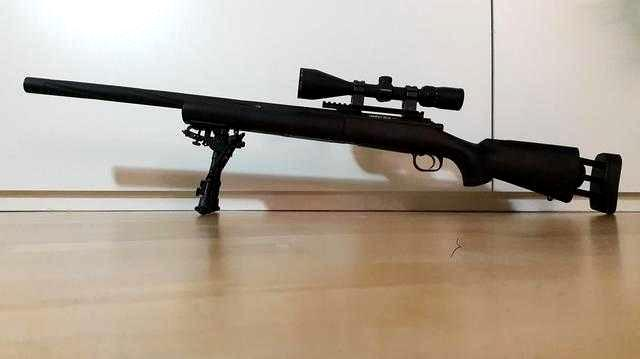rifle: (19, 24, 636, 245)
